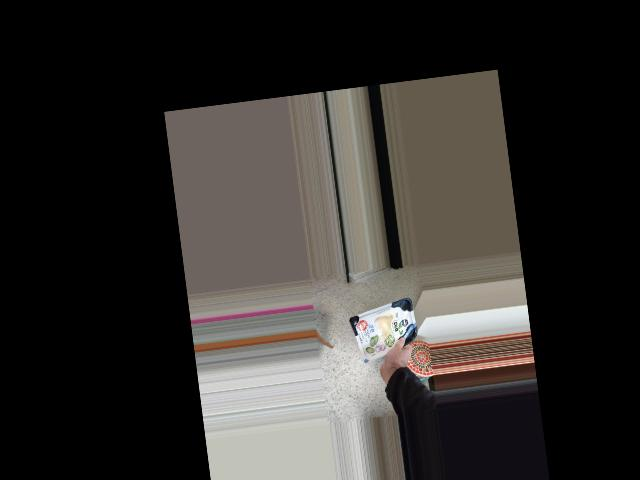cheese: (347, 301, 424, 358)
